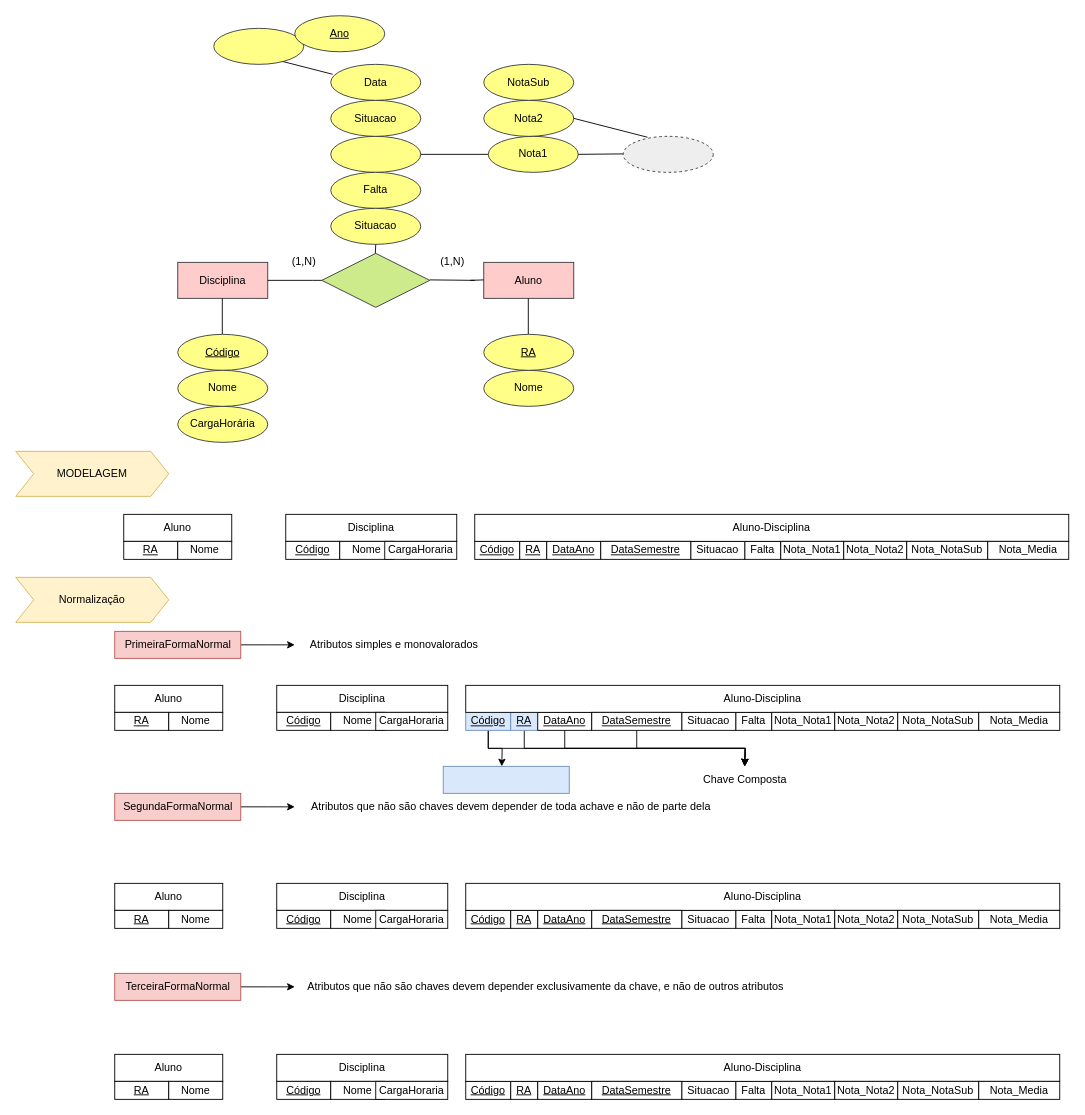
The diagram is 1085 pixels wide and 1115 high, and some of its shapes have lost their labels. Here are the shapes that lost their labels. From the top down, the centre of each, then its label:
the point at 258,45: Semestre
the point at 375,153: Nota
the point at 667,153: Media
the point at 375,279: Faz Matricula
the point at 505,779: Chaves estrangeiras
